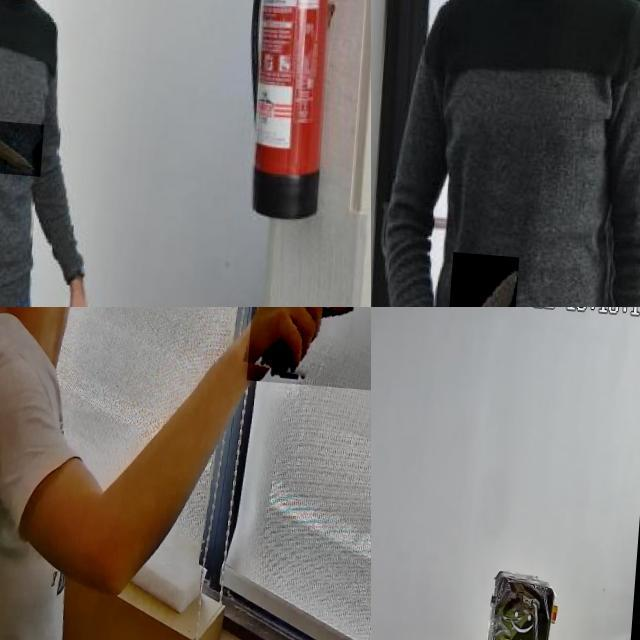-: (449, 247, 524, 307), (0, 115, 50, 172)
gun-knife-thesis - v11 Yolov5 augmented: (251, 307, 371, 394), (371, 529, 392, 594)
